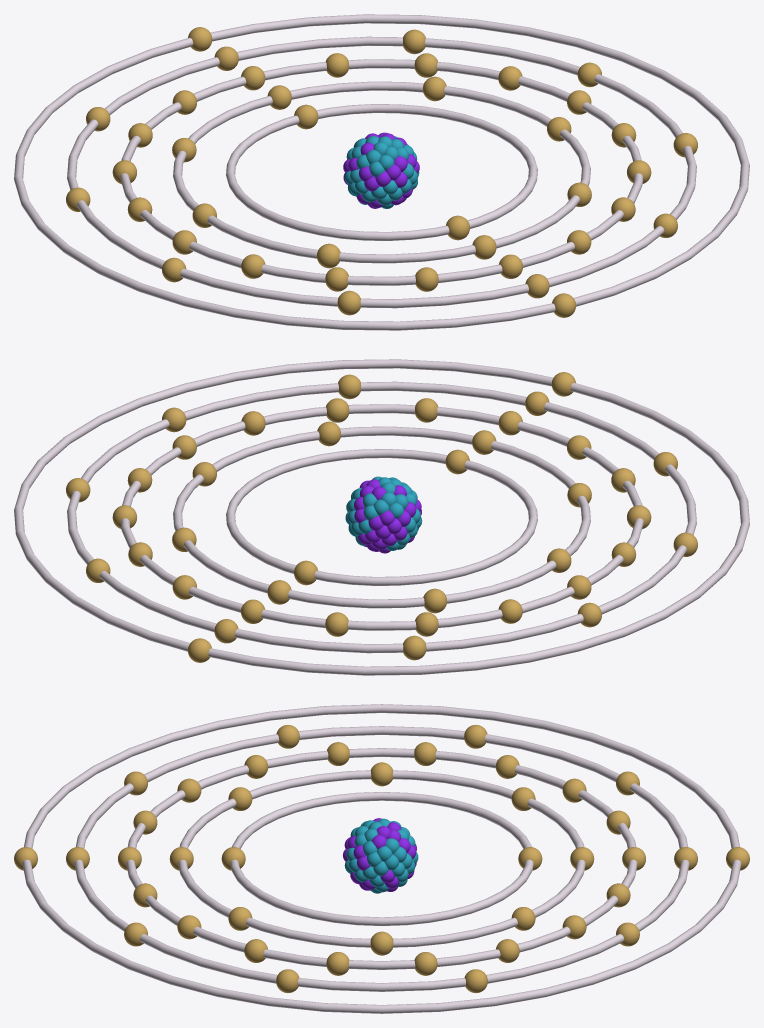
The model's file is zirconio.glb.
3 views of the same model, one above another, from view 1: azimuth 30°, elevation 25°; view 2: azimuth 150°, elevation 25°; view 3: azimuth 270°, elevation 25° (orthographic). The views are drawn at different scales.
Parts seen in each view (by area): view 1: Orbita_5, Orbita_4, Orbita_3, Orbita_2, Orbita_1, Nucleo_Completo; view 2: Orbita_5, Orbita_4, Orbita_3, Orbita_2, Orbita_1, Nucleo_Completo; view 3: Orbita_5, Orbita_4, Orbita_3, Orbita_2, Orbita_1, Nucleo_Completo.
Boxes of the visible parts, x1,y1,x2,y2 form: Orbita_5: (14, 14, 749, 330); Orbita_4: (67, 36, 696, 308); Orbita_3: (120, 59, 643, 285); Orbita_2: (173, 81, 590, 263); Orbita_1: (226, 104, 537, 240); Nucleo_Completo: (343, 132, 419, 208); Orbita_5: (14, 359, 749, 675); Orbita_4: (67, 381, 696, 653); Orbita_3: (120, 404, 643, 630); Orbita_2: (173, 426, 590, 608); Orbita_1: (226, 449, 537, 585); Nucleo_Completo: (345, 476, 422, 553); Orbita_5: (22, 704, 741, 1013); Orbita_4: (74, 726, 689, 991); Orbita_3: (126, 748, 637, 969); Orbita_2: (178, 770, 585, 947); Orbita_1: (230, 792, 533, 925); Nucleo_Completo: (343, 818, 418, 893).
Bounding box in the file's own units: 4.86 × 0.5076 × 4.96.
